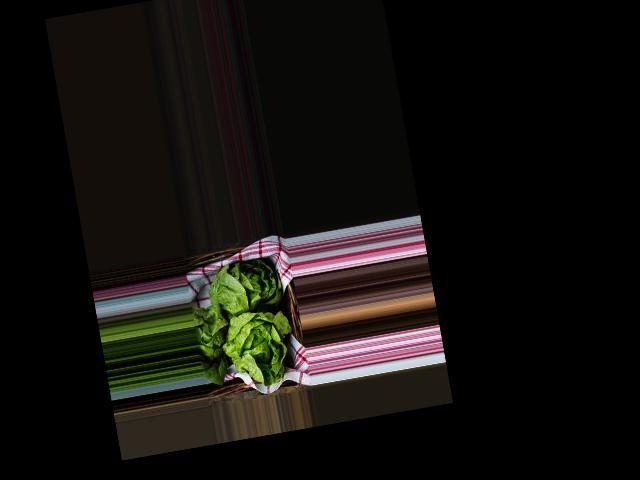lettuce: (194, 261, 292, 387)
